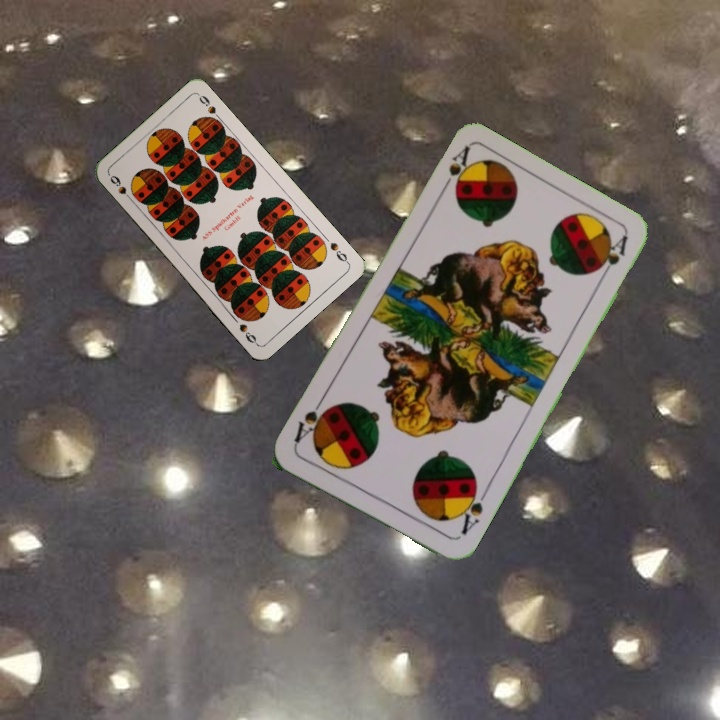S9: (106, 171, 136, 205), (326, 238, 351, 266)
SA: (452, 483, 489, 538), (435, 143, 472, 198)
